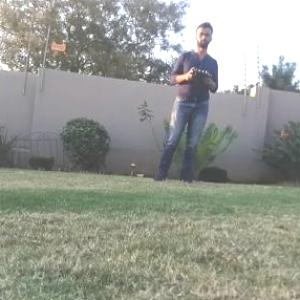follow: (146, 15, 221, 188)
